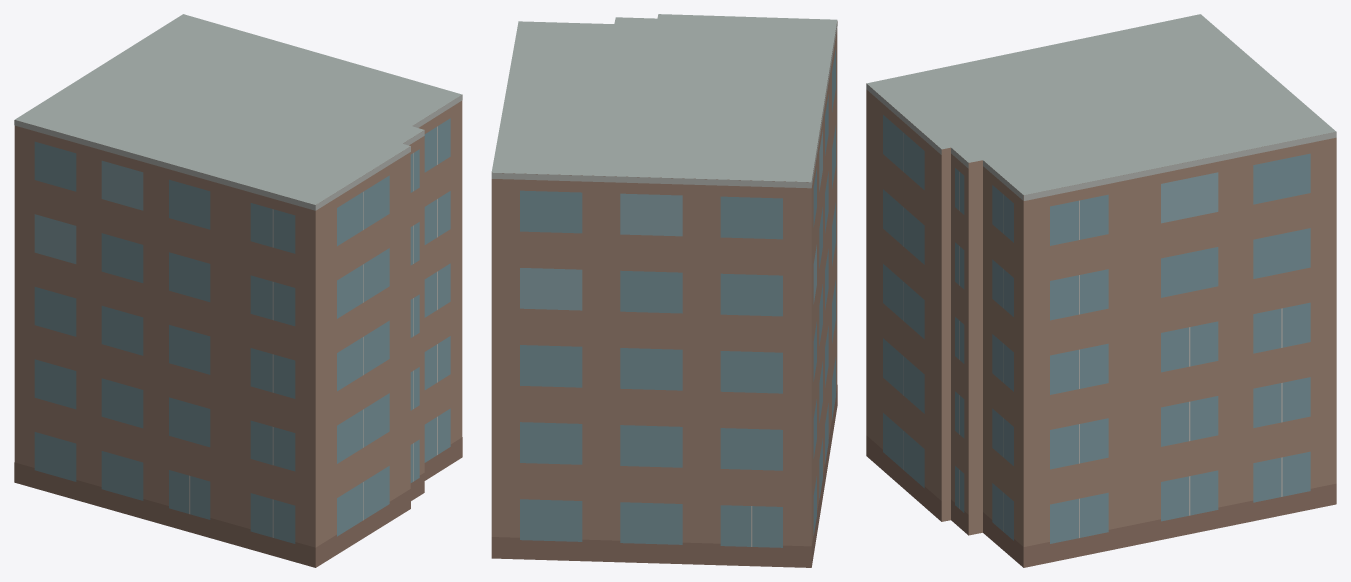
The model's file is survey-upis-33046355.glb.
3 renders of one model, left to right at view 1: azimuth 30°, elevation 25°; view 2: azimuth 150°, elevation 25°; view 3: azimuth 270°, elevation 25°, orthographic. The views are drawn at different scales.
Parts seen in each view (by area): view 1: survey-upis-33046355.tmp; view 2: survey-upis-33046355.tmp; view 3: survey-upis-33046355.tmp.
Part boxes in pixels (x1,y1,x2,y2): survey-upis-33046355.tmp: (14, 14, 462, 567); survey-upis-33046355.tmp: (491, 14, 837, 567); survey-upis-33046355.tmp: (866, 14, 1336, 567).
Size of the model in its own units: 16.19 by 15.5 by 17.74.
